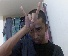hand: (19, 1, 44, 32)
